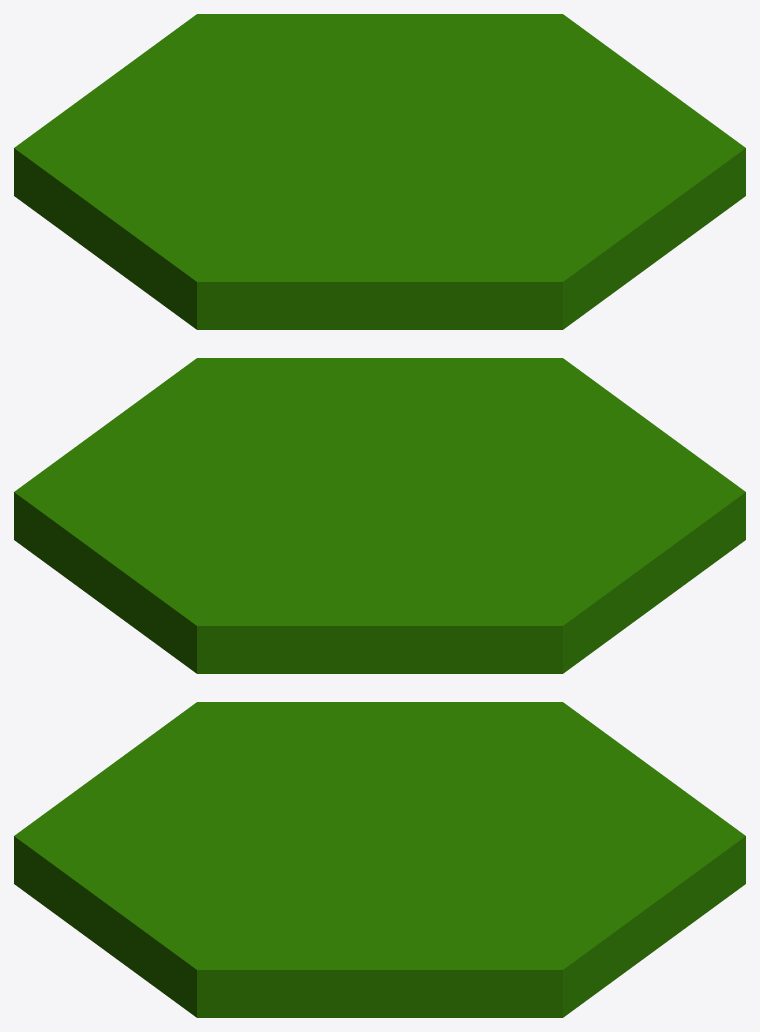
File: hex.fbx
3 renders of one model, top to bottom at view 1: azimuth 30°, elevation 25°; view 2: azimuth 150°, elevation 25°; view 3: azimuth 270°, elevation 25°, orthographic.
Parts seen in each view (by area): view 1: ground; view 2: ground; view 3: ground.
Boxes of the visible parts, x1,y1,x2,y2 form: ground: [14, 14, 745, 329]; ground: [14, 358, 745, 673]; ground: [14, 702, 745, 1017].
Size of the model in its own units: 0.866 by 0.0723 by 1.
